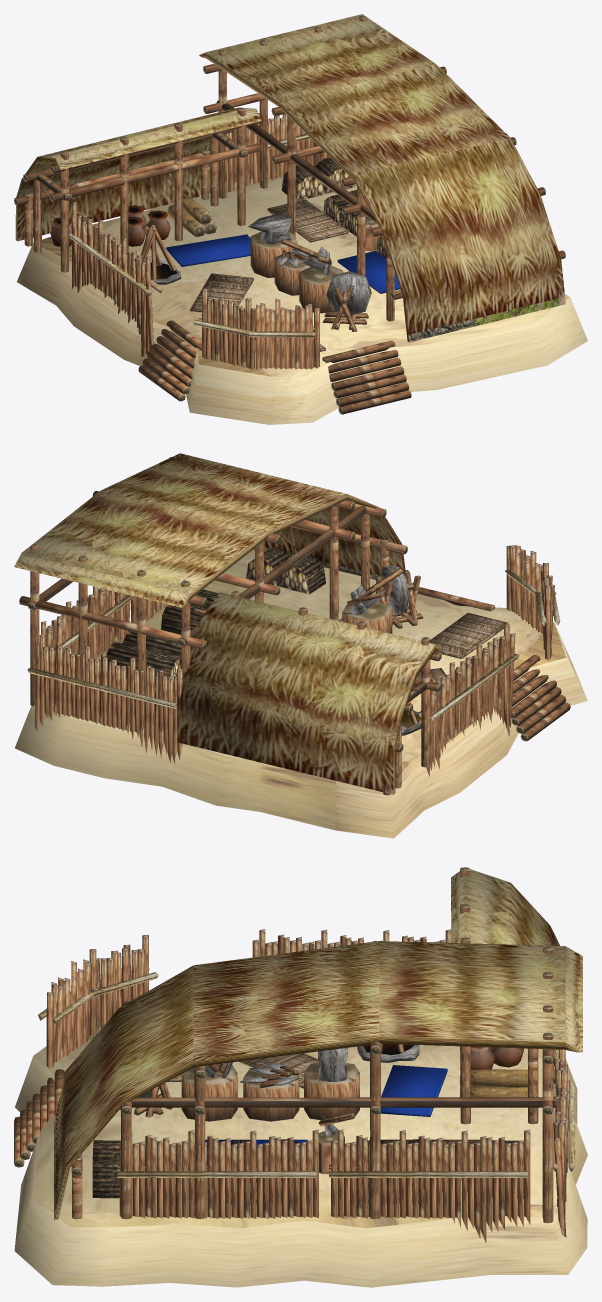
File: blacksmith.dae
3 views of the same model, one above another, from view 1: azimuth 30°, elevation 25°; view 2: azimuth 150°, elevation 25°; view 3: azimuth 270°, elevation 25° (orthographic). The views are drawn at different scales.
Parts seen in each view (by area): view 1: blacksmith; view 2: blacksmith; view 3: blacksmith.
Boxes of the visible parts, left/top/right/bottom form: blacksmith: left=14, top=14, right=587, bottom=424; blacksmith: left=14, top=453, right=587, bottom=838; blacksmith: left=14, top=867, right=587, bottom=1287.
Size of the model in its own units: 21.43 by 22.52 by 10.17.
